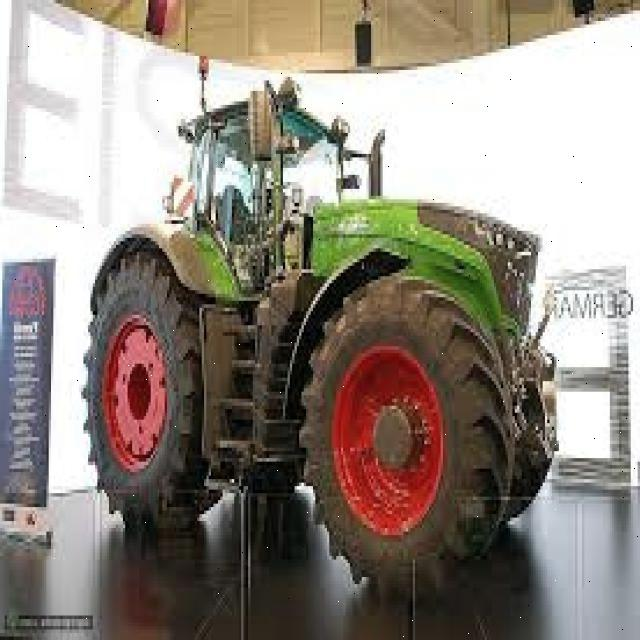Tratores - v5 YOLO V8L 2024-11-13: (76, 90, 556, 596)
